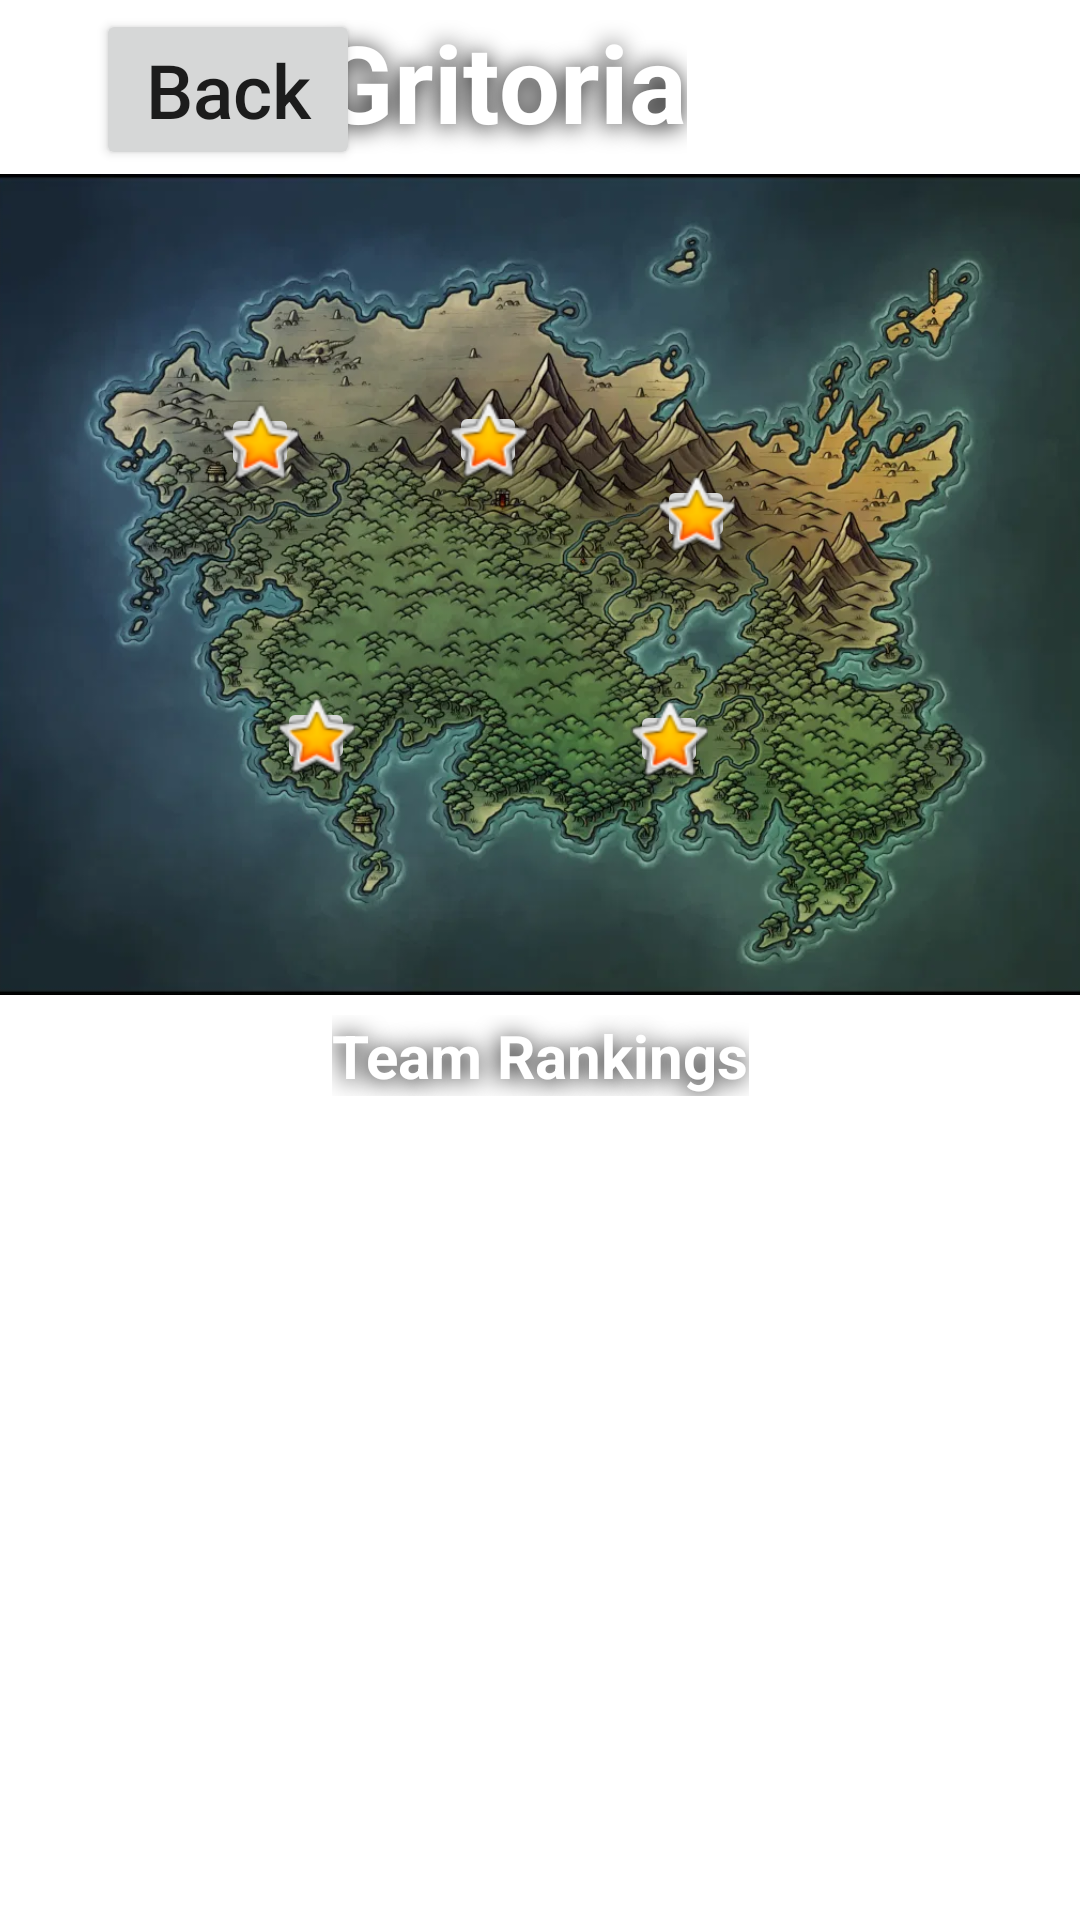

Point at icon controls on the screen. Image size 1080px×1920px, points as point (x, y).
star on: point (488, 440), point (260, 442), point (696, 514), point (316, 736), point (669, 739)
